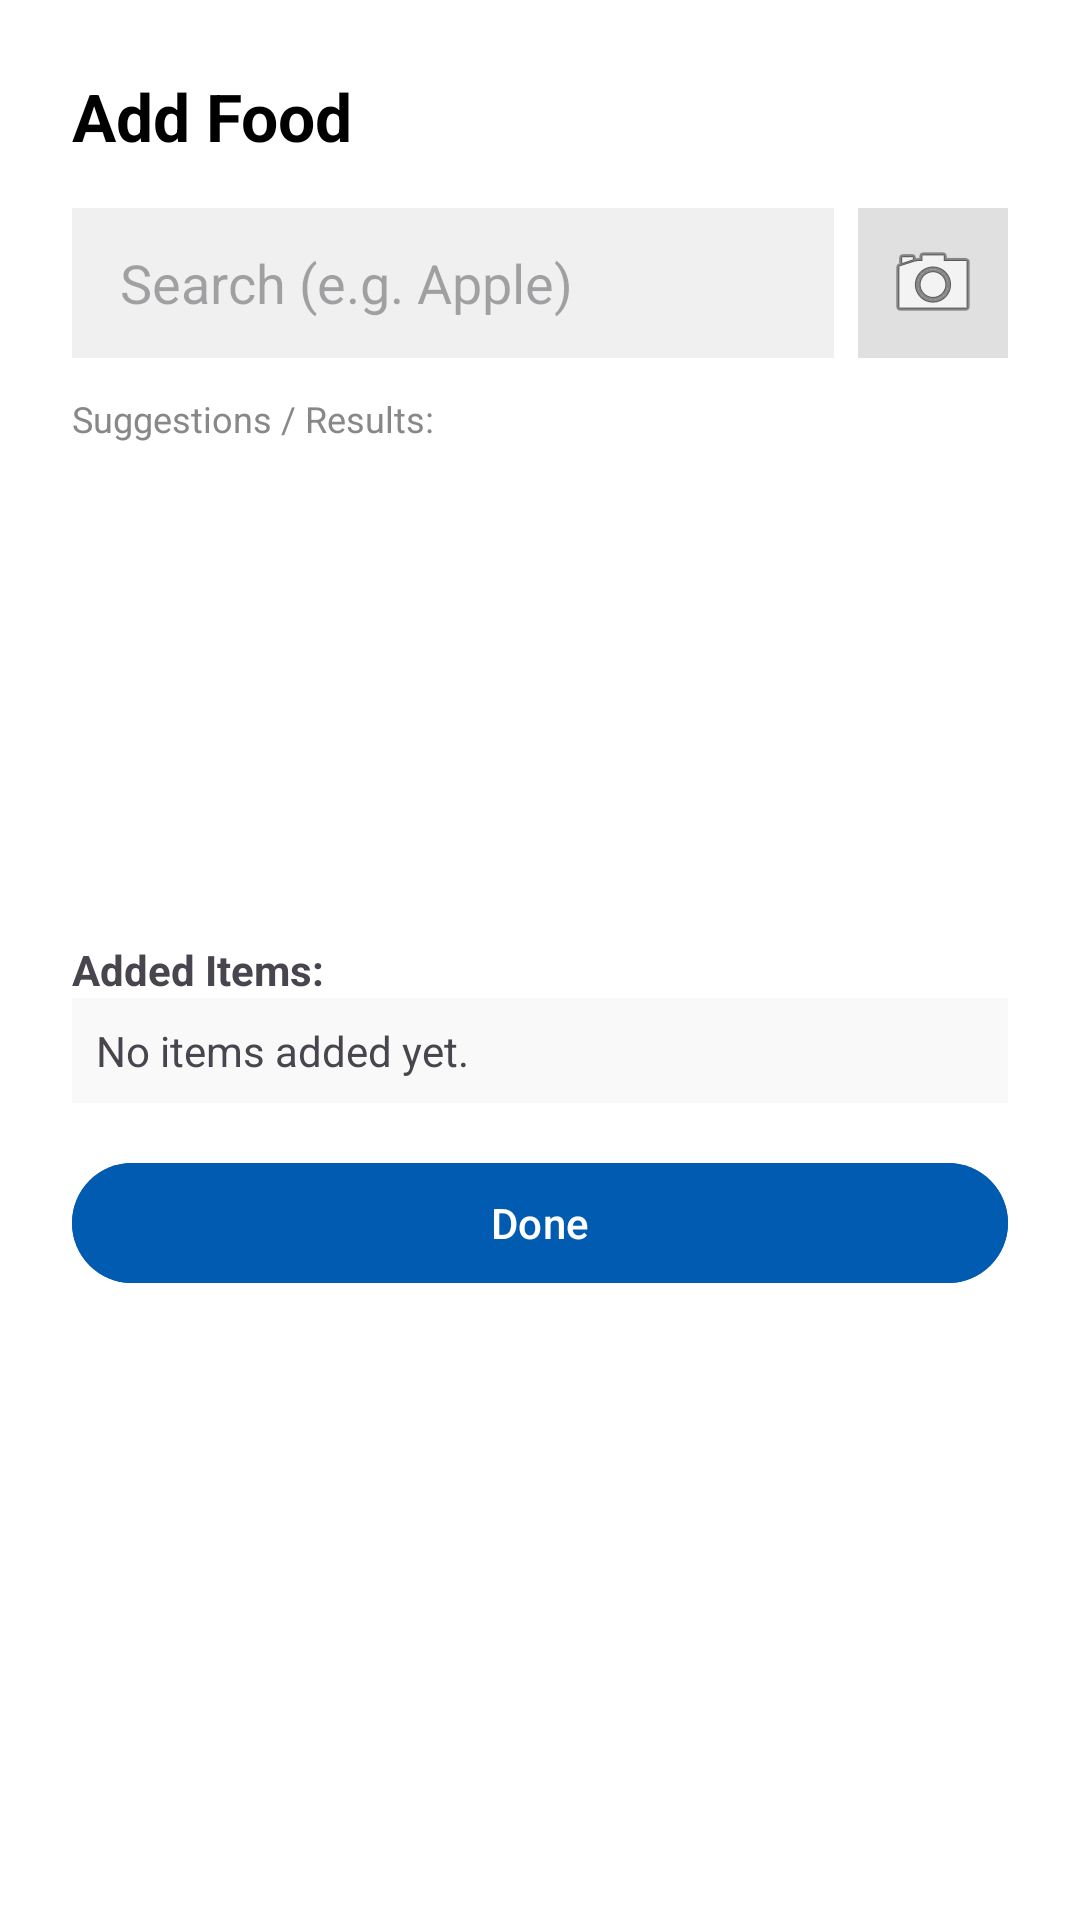

Icon click points for this 1080×1920 phone screenshot, format point (x, y):
Scan Barcode: point (933, 283)
